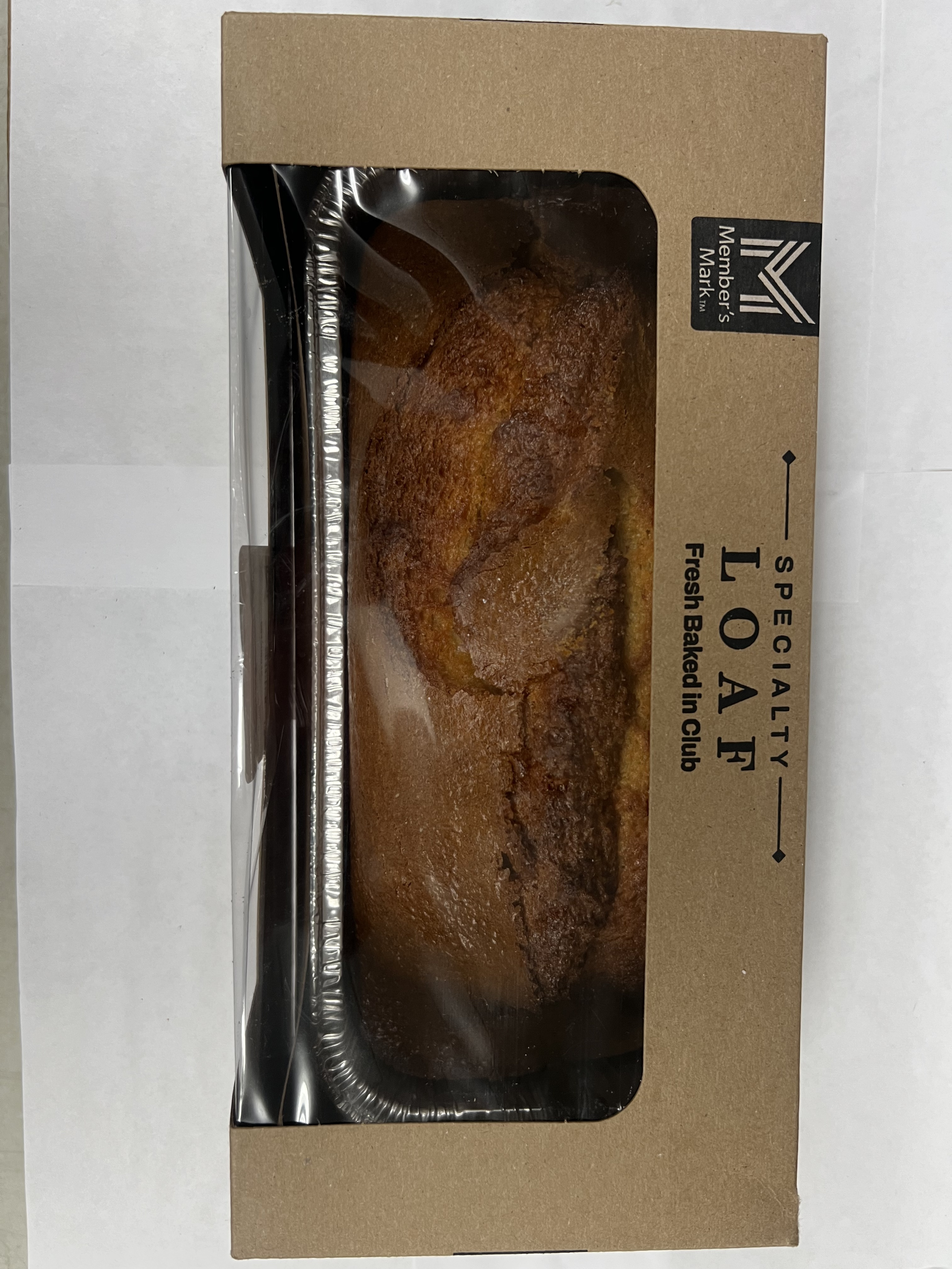bakery: (220, 32, 811, 1261)
